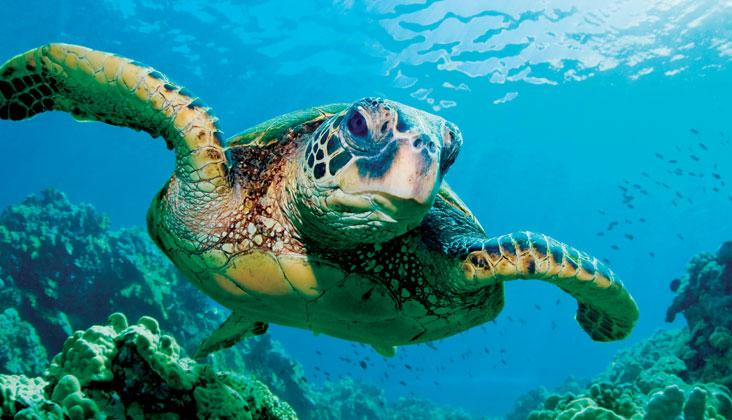turtle: (297, 88, 468, 252)
